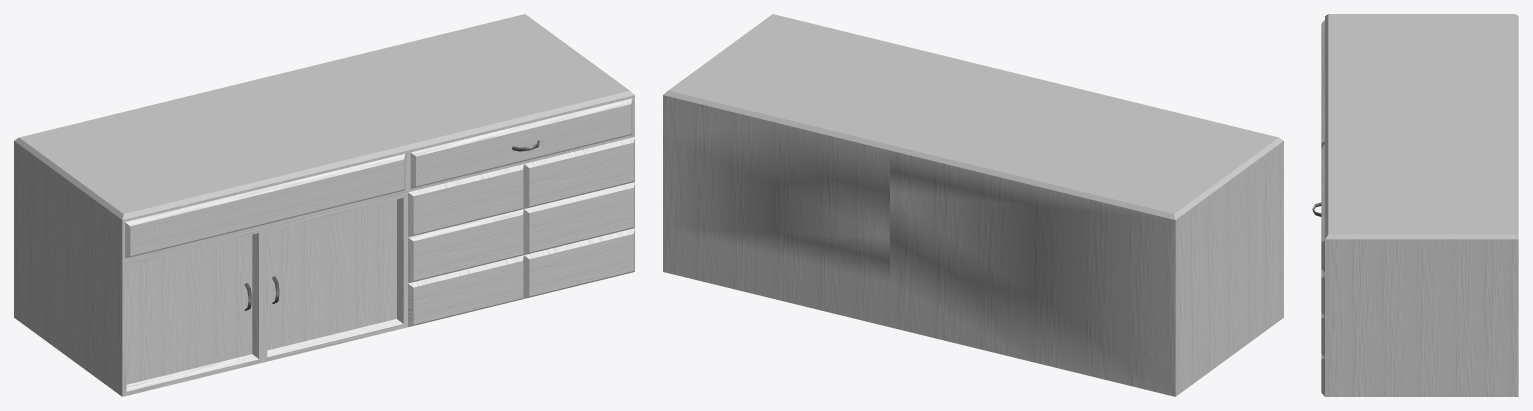
Rendered from Kitchen_Counter_B.FBX.
The picture shows the model from 3 angles, left to right: view 1: azimuth 30°, elevation 25°; view 2: azimuth 150°, elevation 25°; view 3: azimuth 270°, elevation 25°; orthographic projection. The views are drawn at different scales.
Visible parts, largest first — view 1: Kitchen_Counter_A; view 2: Kitchen_Counter_A; view 3: Kitchen_Counter_A.
Boxes of the visible parts, x1,y1,x2,y2 form: Kitchen_Counter_A: (14, 14, 634, 396); Kitchen_Counter_A: (663, 14, 1283, 396); Kitchen_Counter_A: (1312, 14, 1518, 396).
Size of the model in its own units: 409 by 138 by 160.
